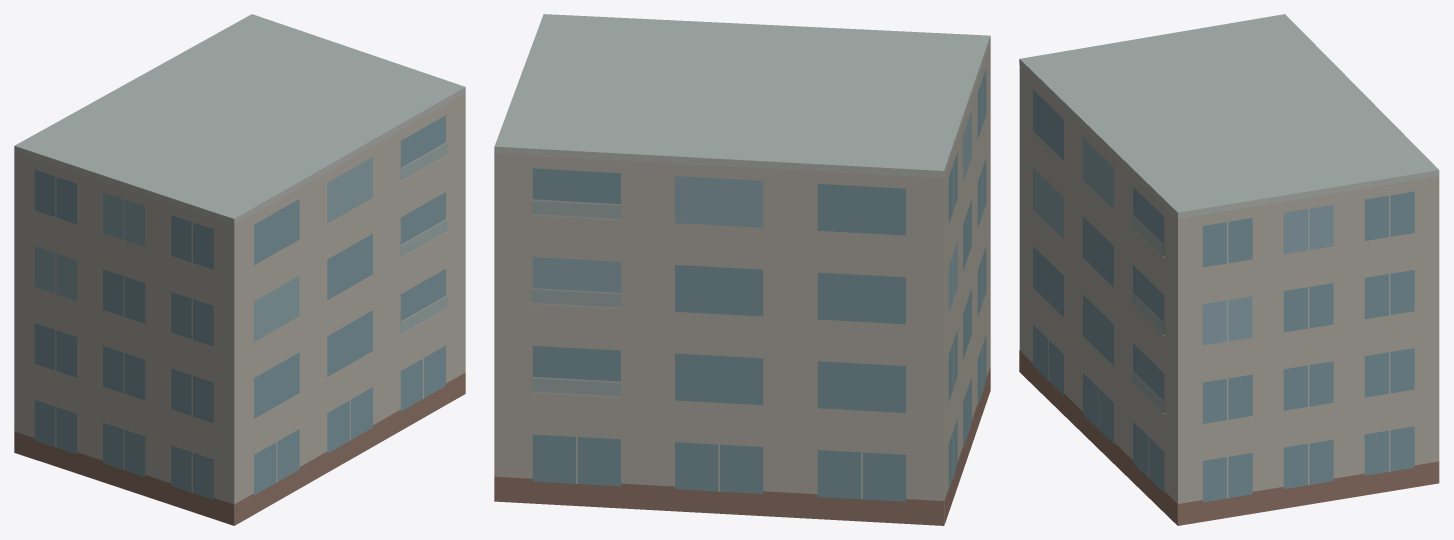
The model's file is survey-upis-32747012.glb.
The picture shows the model from 3 angles, left to right: view 1: azimuth 30°, elevation 25°; view 2: azimuth 150°, elevation 25°; view 3: azimuth 270°, elevation 25°; orthographic projection. The views are drawn at different scales.
Parts seen in each view (by area): view 1: survey-upis-32747012.tmp; view 2: survey-upis-32747012.tmp; view 3: survey-upis-32747012.tmp.
Boxes of the visible parts, <box> form: survey-upis-32747012.tmp: <box>14,14,465,525</box>; survey-upis-32747012.tmp: <box>494,14,990,525</box>; survey-upis-32747012.tmp: <box>1019,14,1439,525</box>.
Size of the model in its own units: 16.61 by 12.2 by 14.83.
